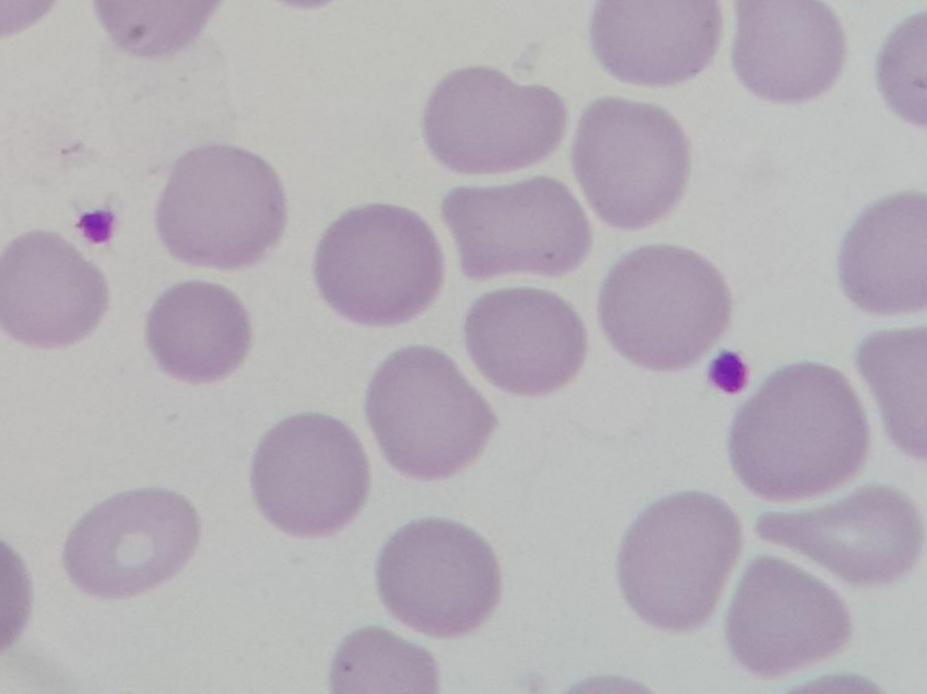Uninfected: (730, 359, 868, 497), (617, 491, 739, 640), (597, 242, 731, 371), (747, 487, 916, 587), (313, 199, 442, 325), (370, 346, 490, 481), (445, 176, 588, 287), (158, 146, 287, 269), (575, 96, 687, 235), (60, 489, 196, 603), (377, 516, 503, 638), (722, 556, 848, 676), (425, 69, 563, 178), (252, 412, 370, 538), (465, 286, 582, 403), (0, 229, 106, 353), (730, 0, 842, 106), (587, 0, 722, 83), (835, 194, 927, 314), (147, 279, 249, 386)
